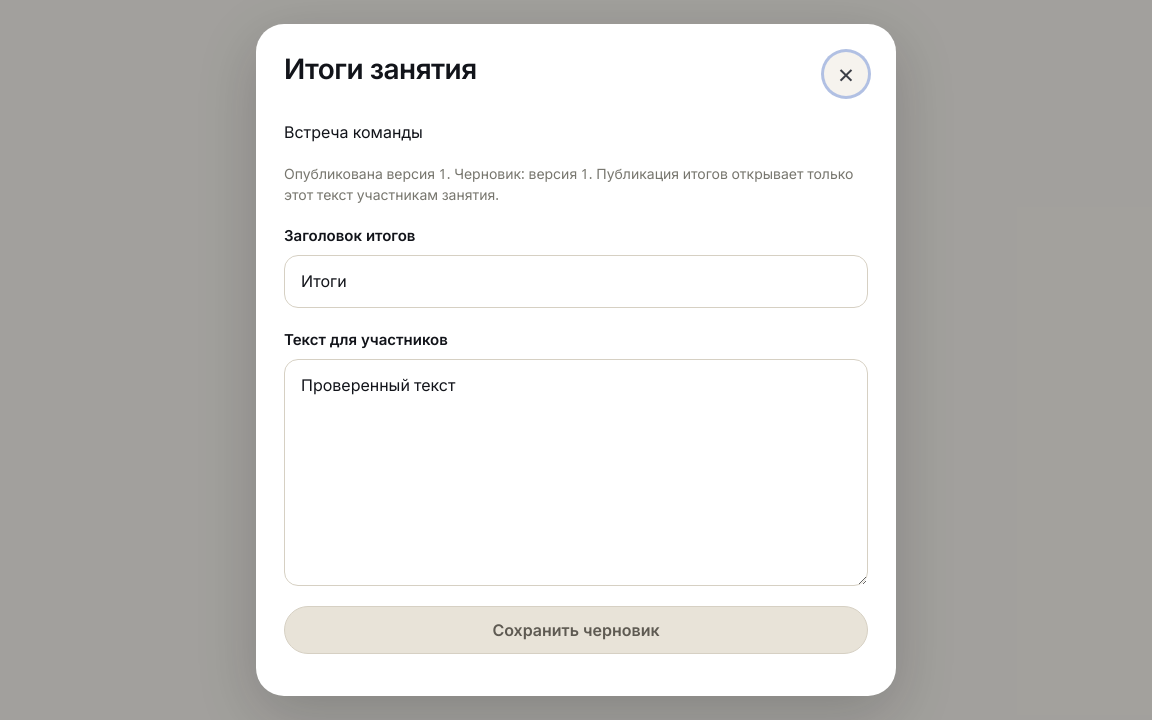
Test case: keeps publication disabled for unsaved text and hides sending when the server denies that capability
Step 1. Replace the text in the text box labelled "Текст для участников" with "Изменённый текст" → (576, 473), box 284,360 -> 868,586
(page scrolled)
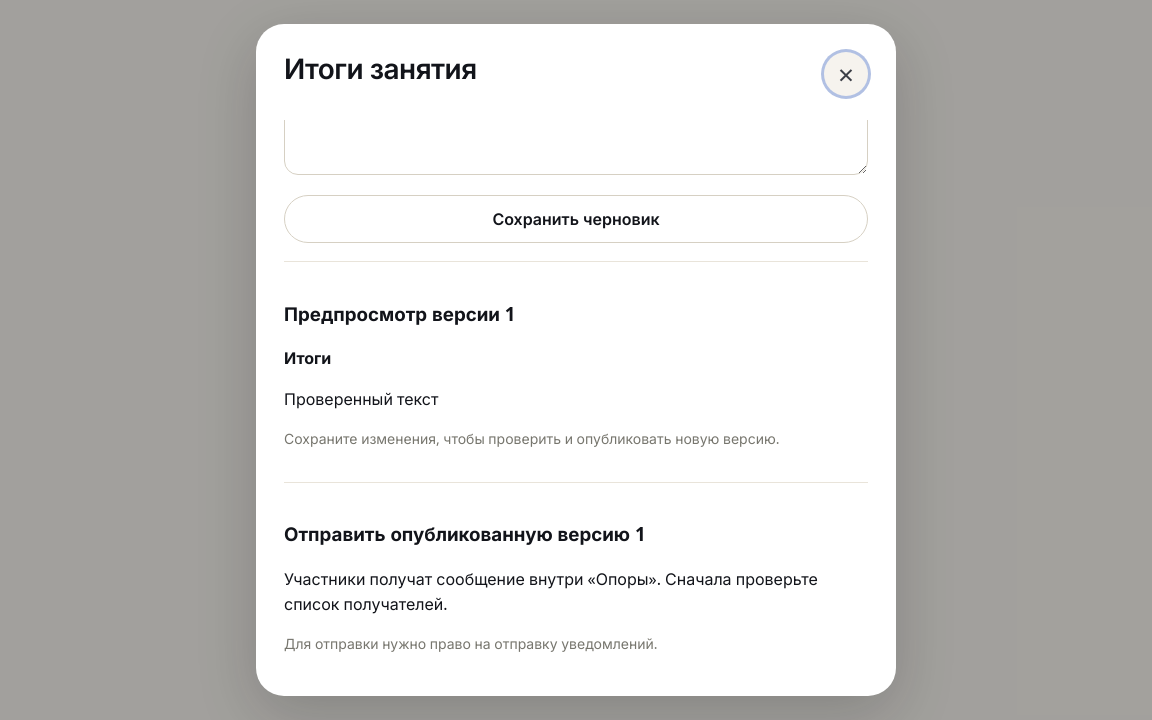
expect the text "Сохраните изменения, чтобы проверить и опубликовать новую версию." is shown: met, box 284,429 -> 780,448
expect the text "Для отправки нужно право на отправку уведомлений." is shown: met, box 284,634 -> 658,653
